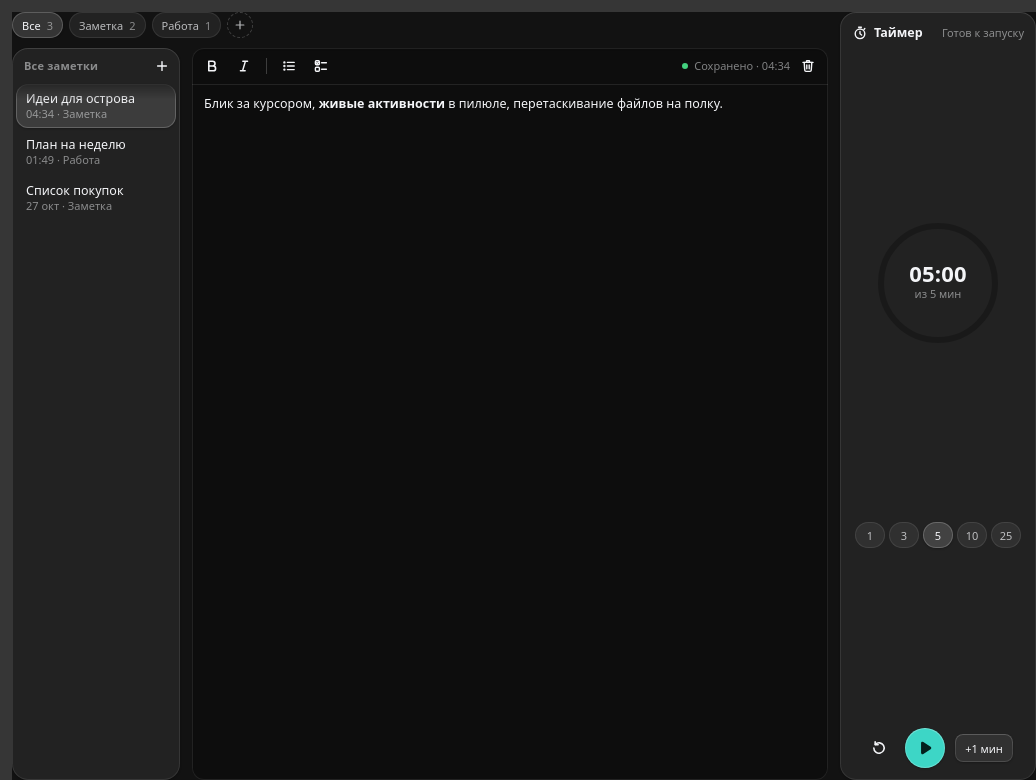
Test case: Notes tab: autosave › delete needs a confirming second click
The image size is (1036, 780).
Click the button named "Удалить заметку". click: (808, 66)
box: [794,52,822,80]
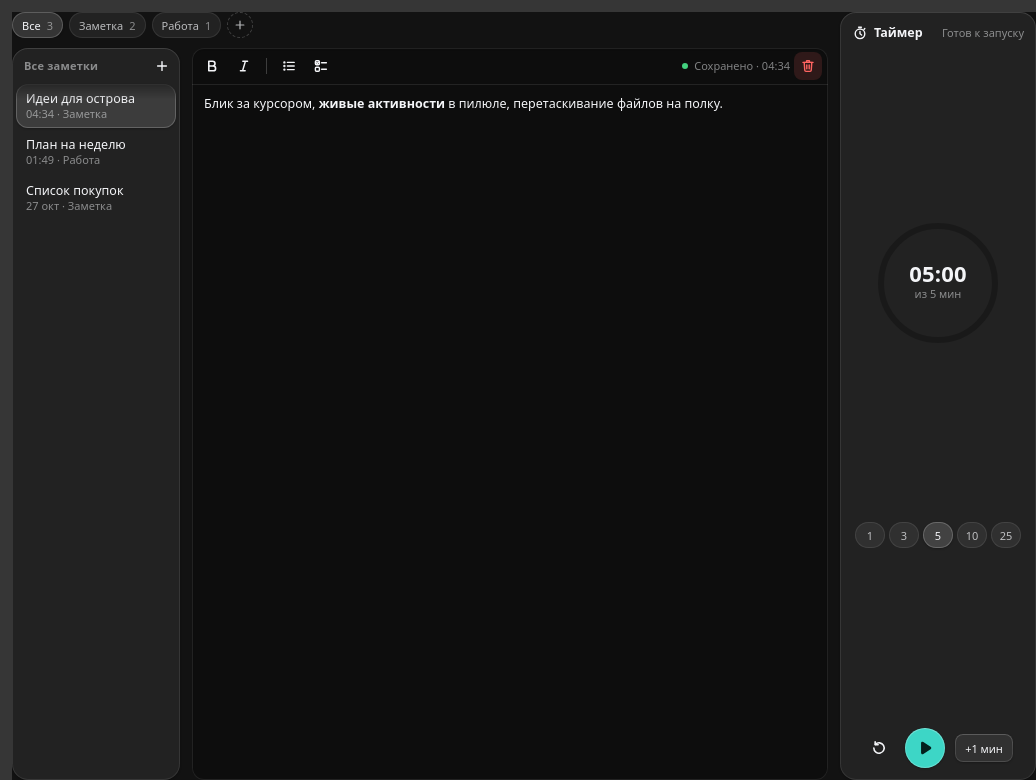
Click the button named "Подтвердить удаление заметки". click: (808, 66)
box: [794,52,822,80]
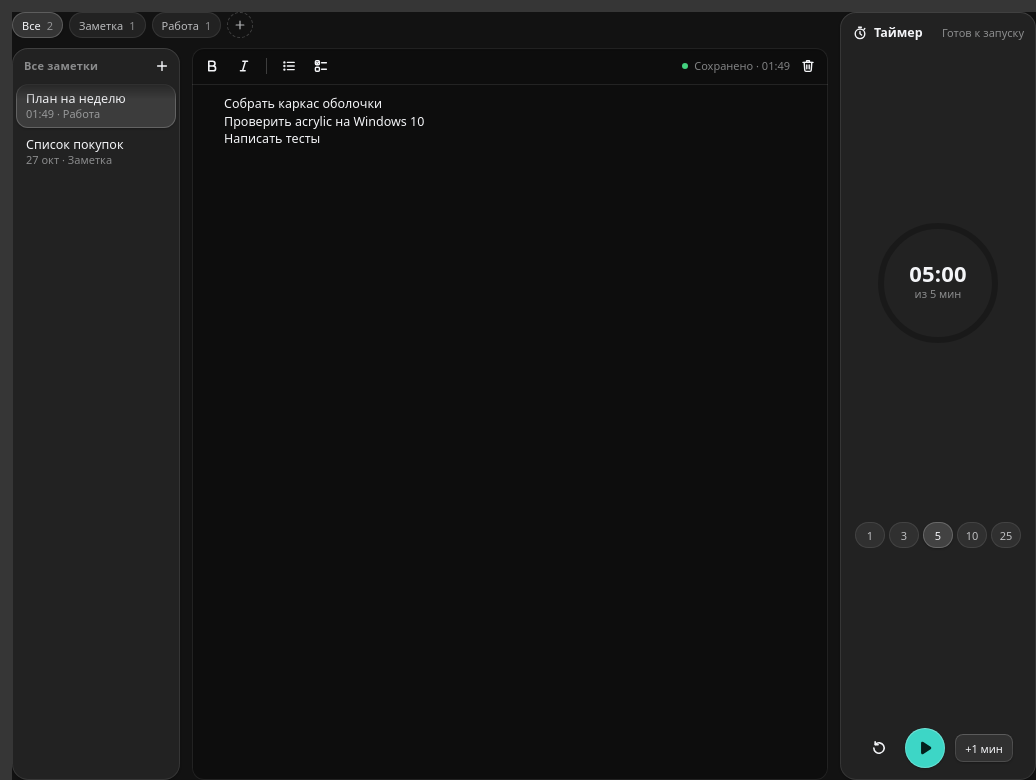
Check: the number of options is 2, box [16,84,176,128]; [26,136,124,167]
